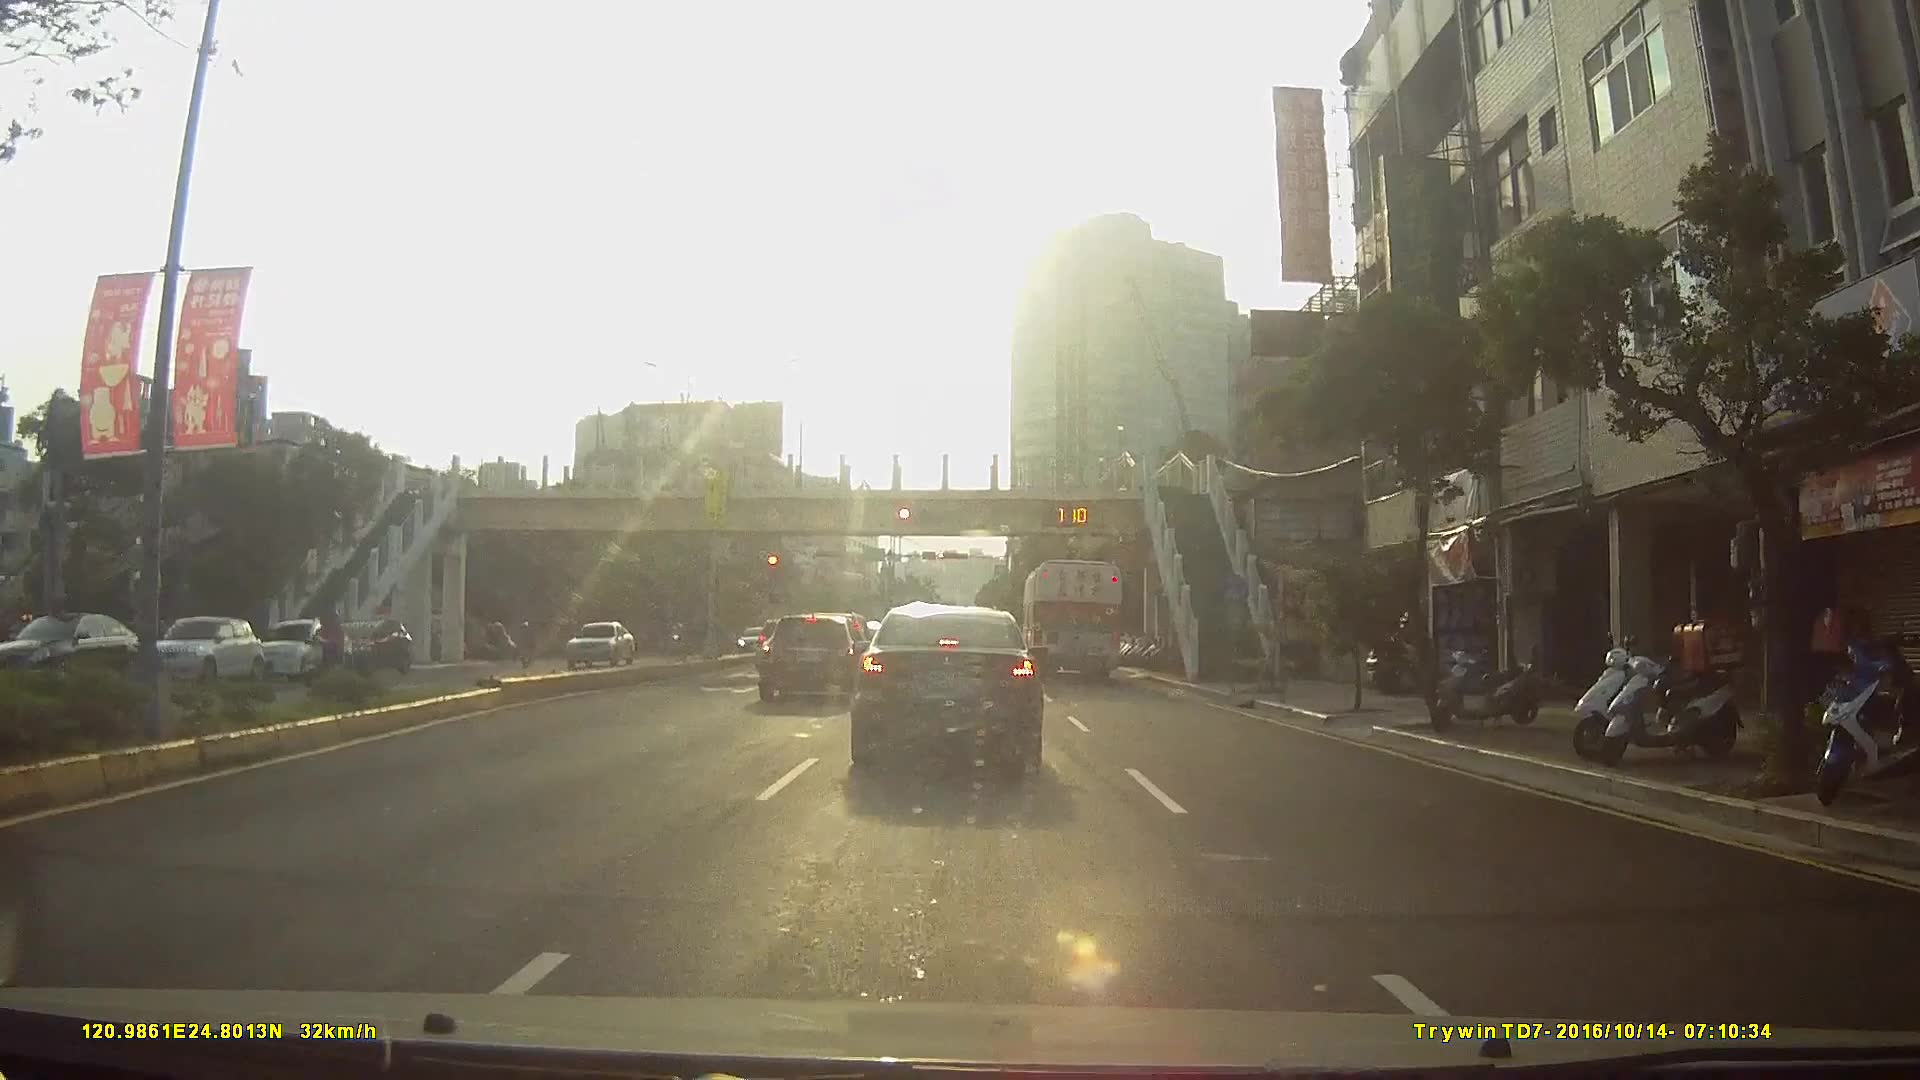rider: (293, 610, 354, 694)
vehicle: (845, 601, 1047, 771), (1020, 556, 1124, 682), (0, 610, 147, 688), (752, 611, 868, 704), (134, 615, 260, 687), (246, 616, 351, 678), (330, 616, 412, 677), (556, 619, 631, 669), (733, 625, 767, 654)
